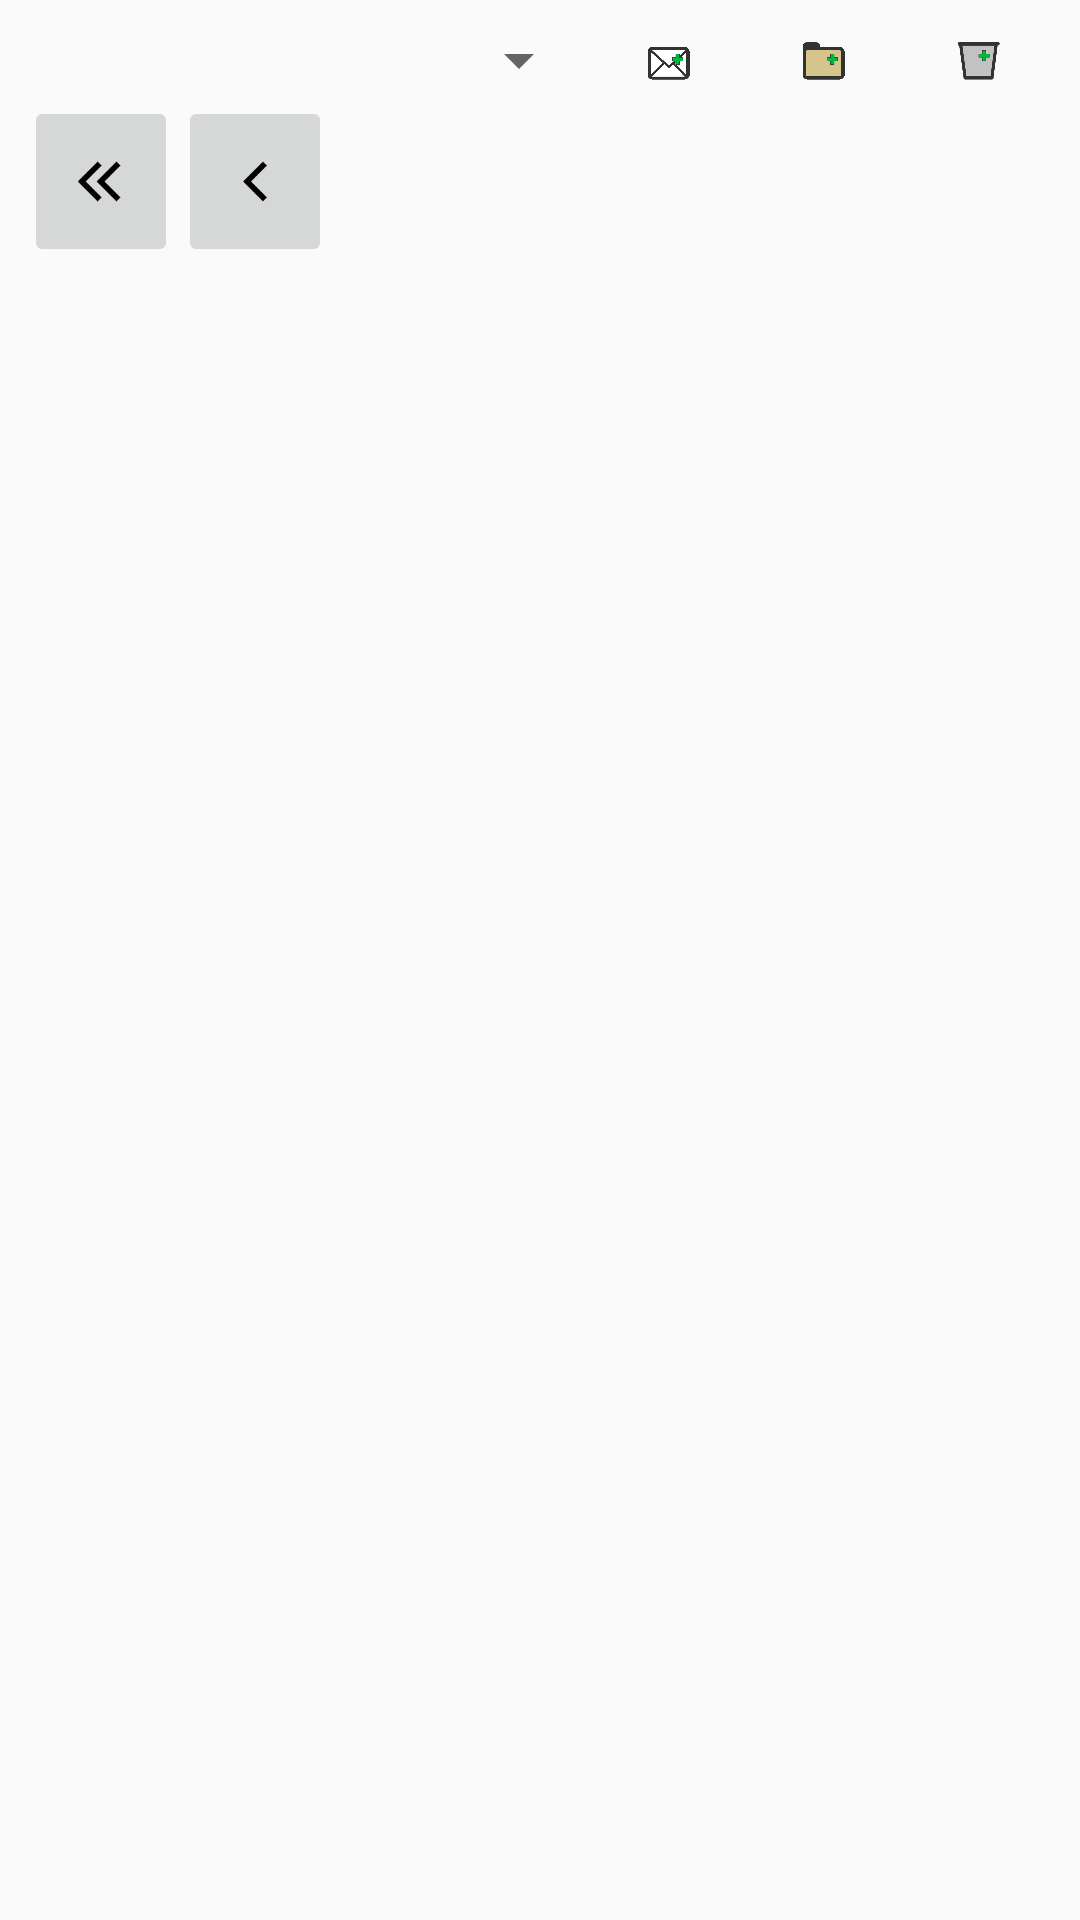

Named icons in this screenshot (1080w x 1920h) and their centers, (x,y):
add bin: (979,61)
add folder: (824,61)
back arrow: (255,181)
